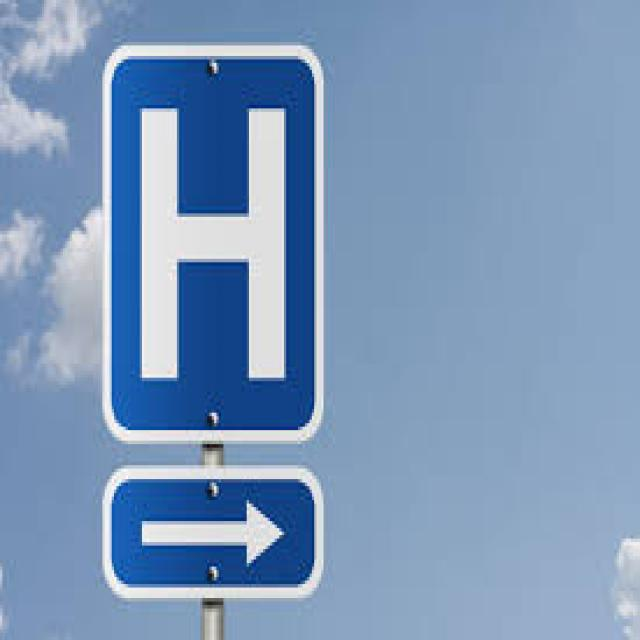hospital ahead: (104, 41, 322, 435)
